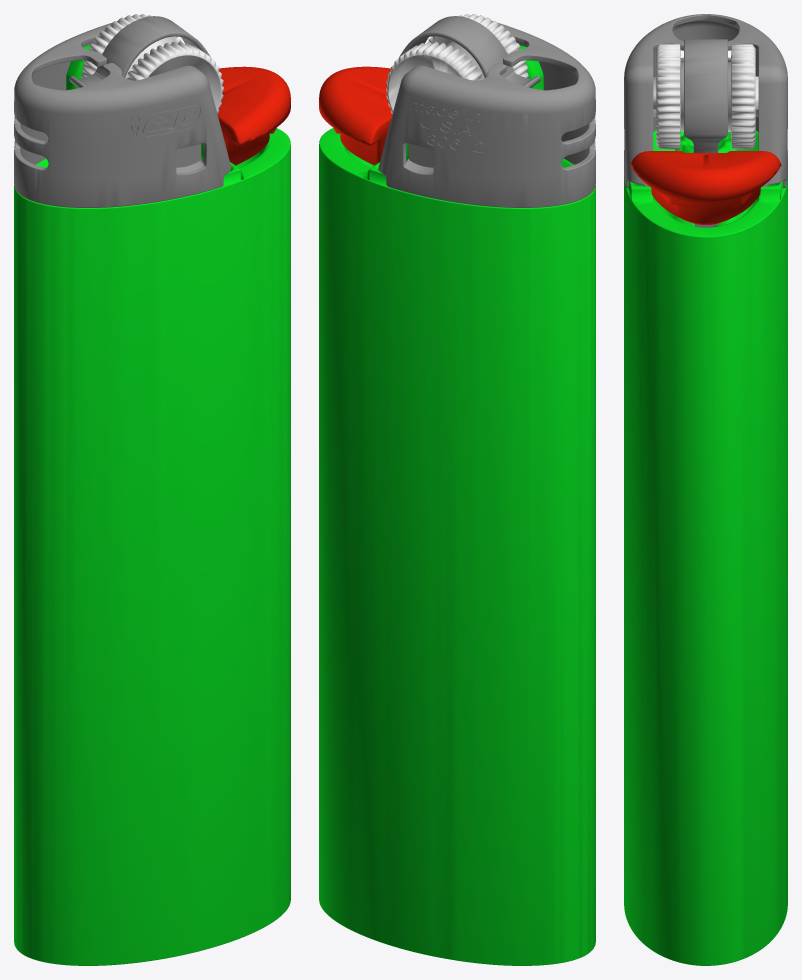
File: LighterLong.glb
3 views of the same model, side by side, from view 1: azimuth 30°, elevation 25°; view 2: azimuth 150°, elevation 25°; view 3: azimuth 270°, elevation 25° (orthographic). The views are drawn at different scales.
Parts seen in each view (by area): view 1: PlasticGreen_Mainpart, MetalSilver_carter.001, Plastic Red_Gaz Switch, MetalSilver_Security, MetalSilver_roulette2, MetalSilver_roulette1; view 2: PlasticGreen_Mainpart, MetalSilver_carter.001, Plastic Red_Gaz Switch, MetalSilver_Security, MetalSilver_roulette1, MetalSilver_roulette2; view 3: PlasticGreen_Mainpart, MetalSilver_carter.001, Plastic Red_Gaz Switch, MetalSilver_Security, MetalSilver_roulette1, MetalSilver_roulette2.
Boxes of the visible parts, x1,y1,x2,y2 form: PlasticGreen_Mainpart: (14, 45, 290, 965); MetalSilver_carter.001: (14, 21, 231, 207); Plastic Red_Gaz Switch: (217, 66, 290, 165); MetalSilver_Security: (69, 16, 211, 87); MetalSilver_roulette2: (126, 41, 223, 113); MetalSilver_roulette1: (81, 14, 181, 78); PlasticGreen_Mainpart: (319, 45, 595, 965); MetalSilver_carter.001: (378, 23, 595, 207); Plastic Red_Gaz Switch: (319, 66, 392, 165); MetalSilver_Security: (398, 16, 540, 87); MetalSilver_roulette1: (386, 41, 484, 113); MetalSilver_roulette2: (428, 14, 528, 77); PlasticGreen_Mainpart: (624, 130, 787, 965); MetalSilver_carter.001: (624, 14, 787, 187); Plastic Red_Gaz Switch: (630, 151, 781, 224); MetalSilver_Security: (684, 39, 727, 227); MetalSilver_roulette1: (653, 44, 758, 149); MetalSilver_roulette2: (656, 44, 680, 149).
Size of the model in its own units: 25 by 81.23 by 14.
